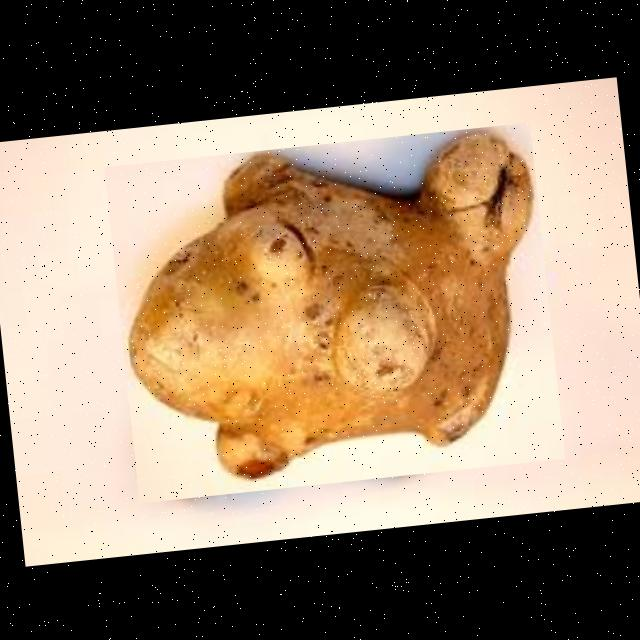Damaged potato: (102, 121, 564, 502)
